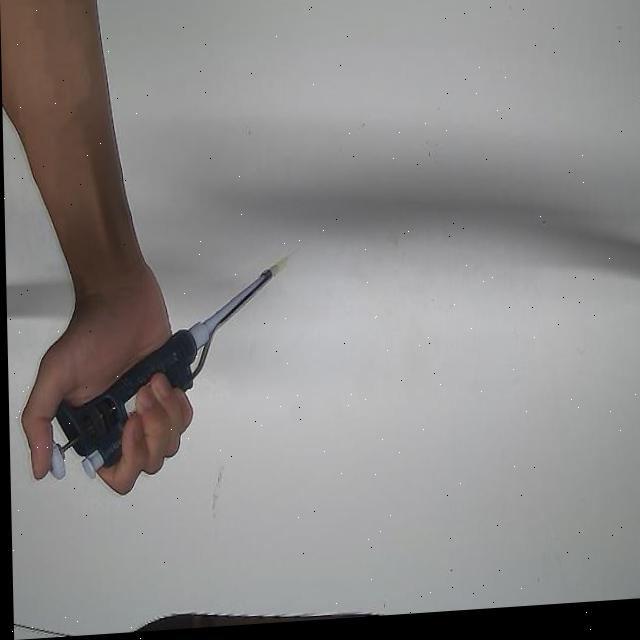Micropipette Tip 200 uL: (266, 248, 300, 283)
Single Channel Pipettor: (39, 265, 282, 483)
